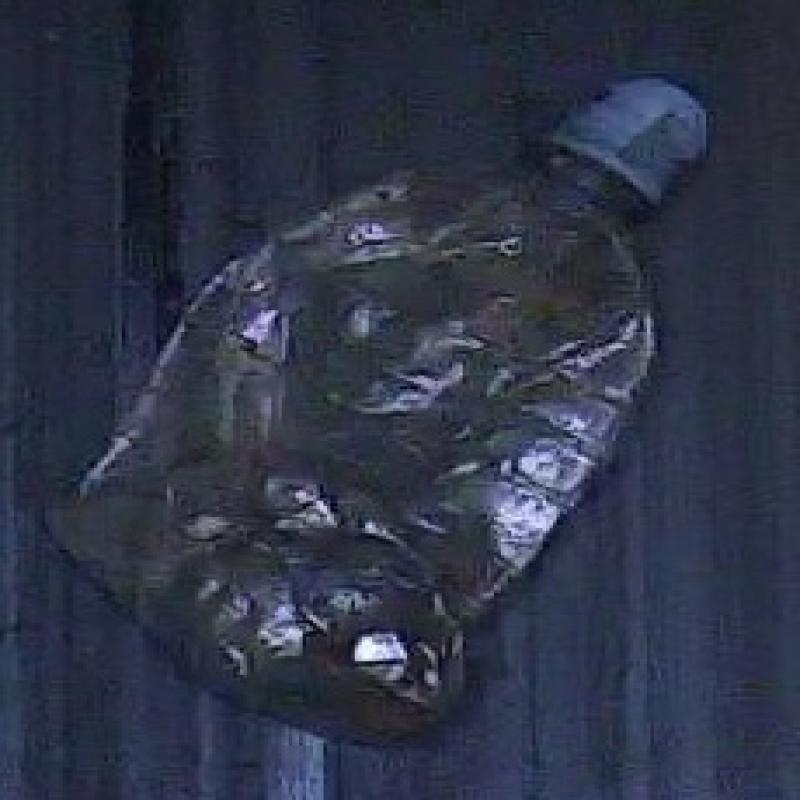botella: (48, 64, 720, 740)
